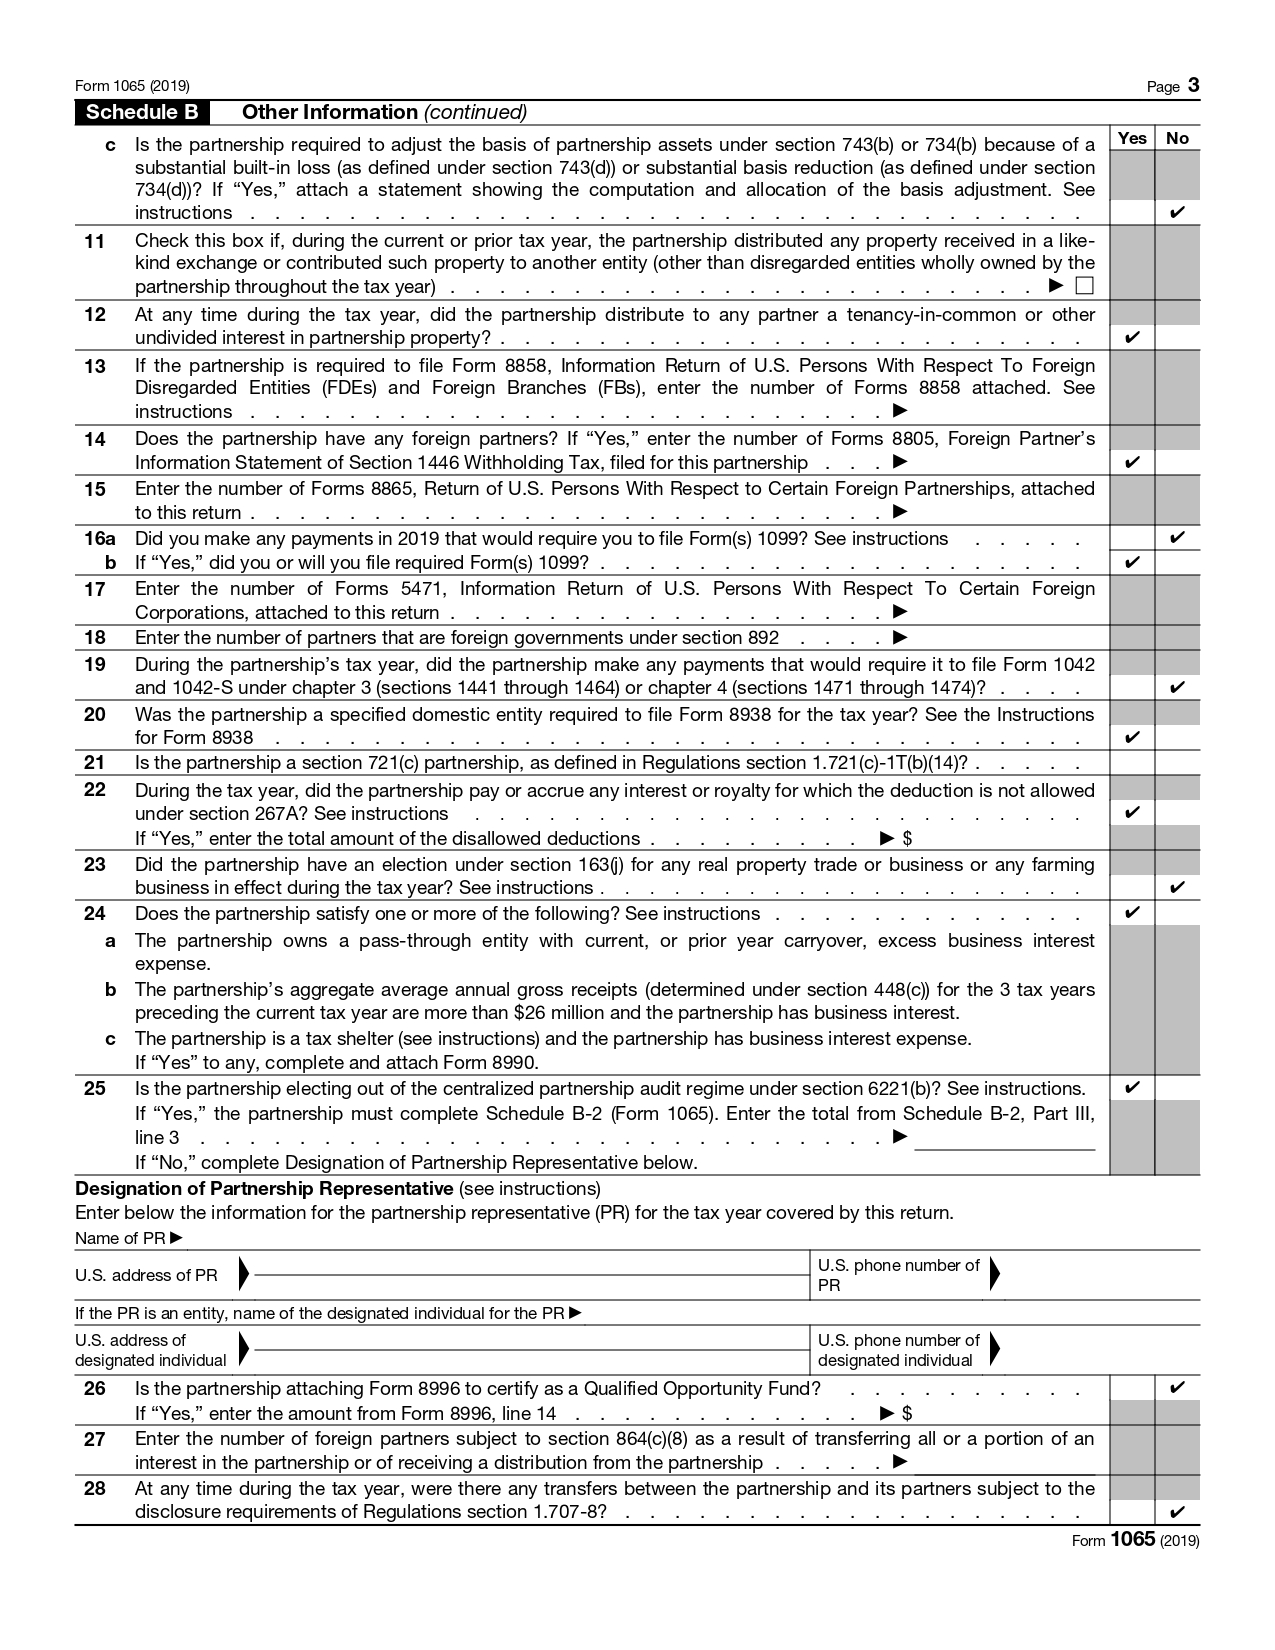checkbox: (1077, 279, 1098, 300)
checkmark: (1118, 1079, 1150, 1104), (1162, 1379, 1193, 1404), (1118, 804, 1148, 828), (1117, 554, 1148, 577), (1116, 729, 1146, 751), (1117, 454, 1146, 475), (1162, 879, 1192, 900), (1164, 1505, 1193, 1527), (1162, 680, 1192, 700), (1120, 806, 1149, 826), (1165, 204, 1191, 226), (1120, 329, 1145, 350), (1167, 530, 1192, 550), (1118, 905, 1145, 924)
